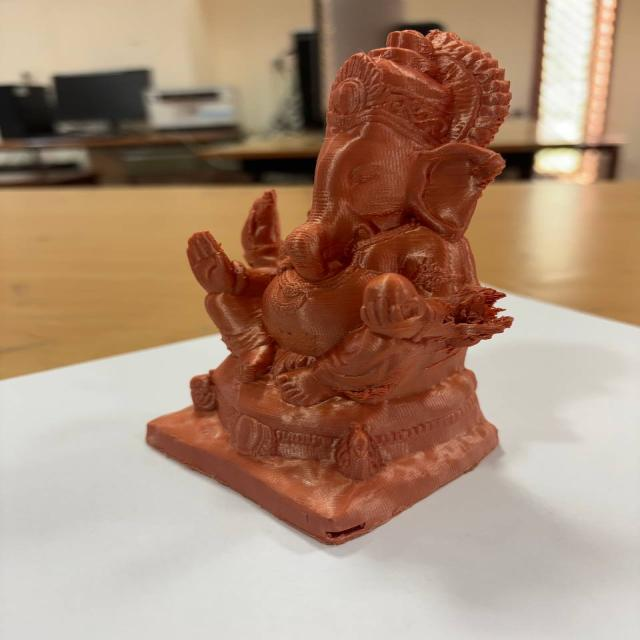cracks: (420, 276, 516, 346), (317, 503, 370, 557)
